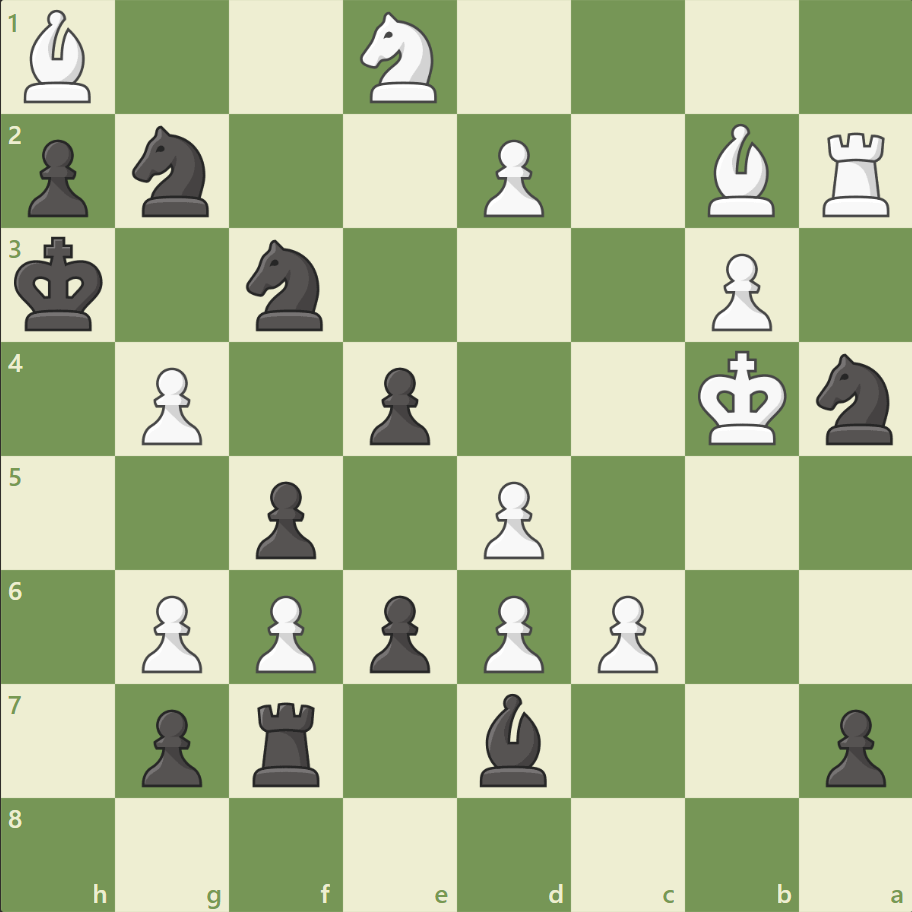B: (17, 6, 101, 109), (698, 120, 782, 222)
K: (692, 344, 792, 452)
N: (351, 7, 449, 110)
P: (474, 586, 549, 677), (247, 586, 322, 677), (133, 586, 208, 677), (474, 473, 549, 564), (133, 359, 208, 450), (701, 246, 776, 337), (474, 132, 549, 223), (588, 586, 662, 677)
R: (814, 125, 897, 222)
b: (471, 687, 555, 790)
k: (11, 231, 111, 339)
n: (124, 121, 222, 223), (238, 234, 335, 337), (806, 348, 903, 450)
p: (133, 700, 208, 791), (247, 473, 322, 564), (20, 132, 95, 223), (815, 700, 889, 791), (361, 586, 435, 677), (361, 359, 435, 450)
r: (246, 693, 329, 790)
